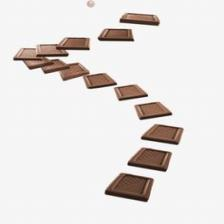brown: (106, 173, 154, 201), (128, 149, 173, 171), (13, 48, 53, 69), (142, 124, 184, 144), (136, 102, 173, 119), (115, 85, 148, 100), (85, 73, 117, 88), (61, 63, 89, 80), (121, 13, 160, 25), (56, 37, 90, 50), (99, 29, 134, 41), (37, 44, 68, 56), (42, 60, 69, 73)
